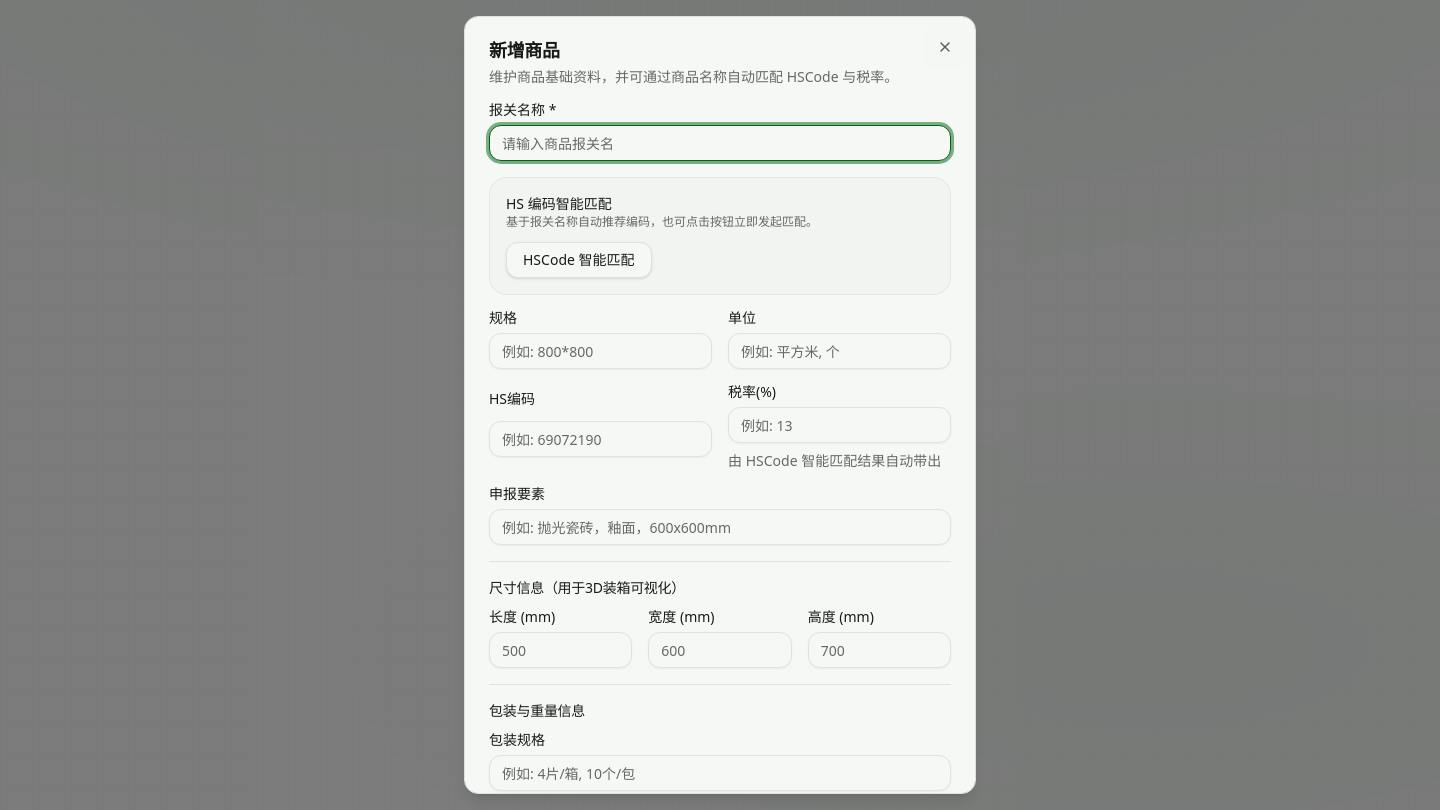
Test: ProductDialog › 商品名称匹配后可选择推荐 HSCode 并显示税率
Type "瓷砖" into the field labelled "报关名称 *" at (720, 143), box [489, 125, 951, 161]
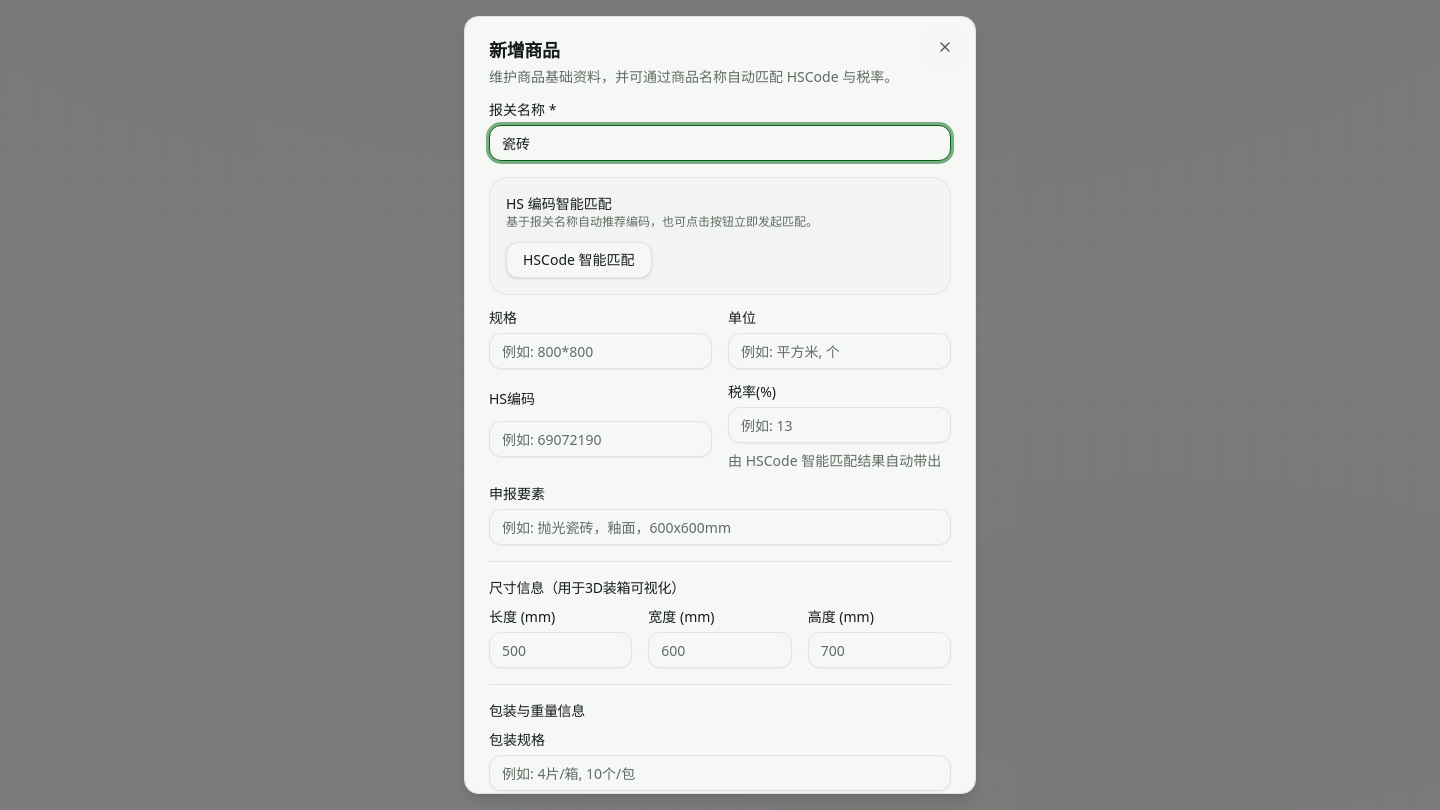
Click the button "HSCode 智能匹配" at (579, 260), box [506, 242, 652, 278]
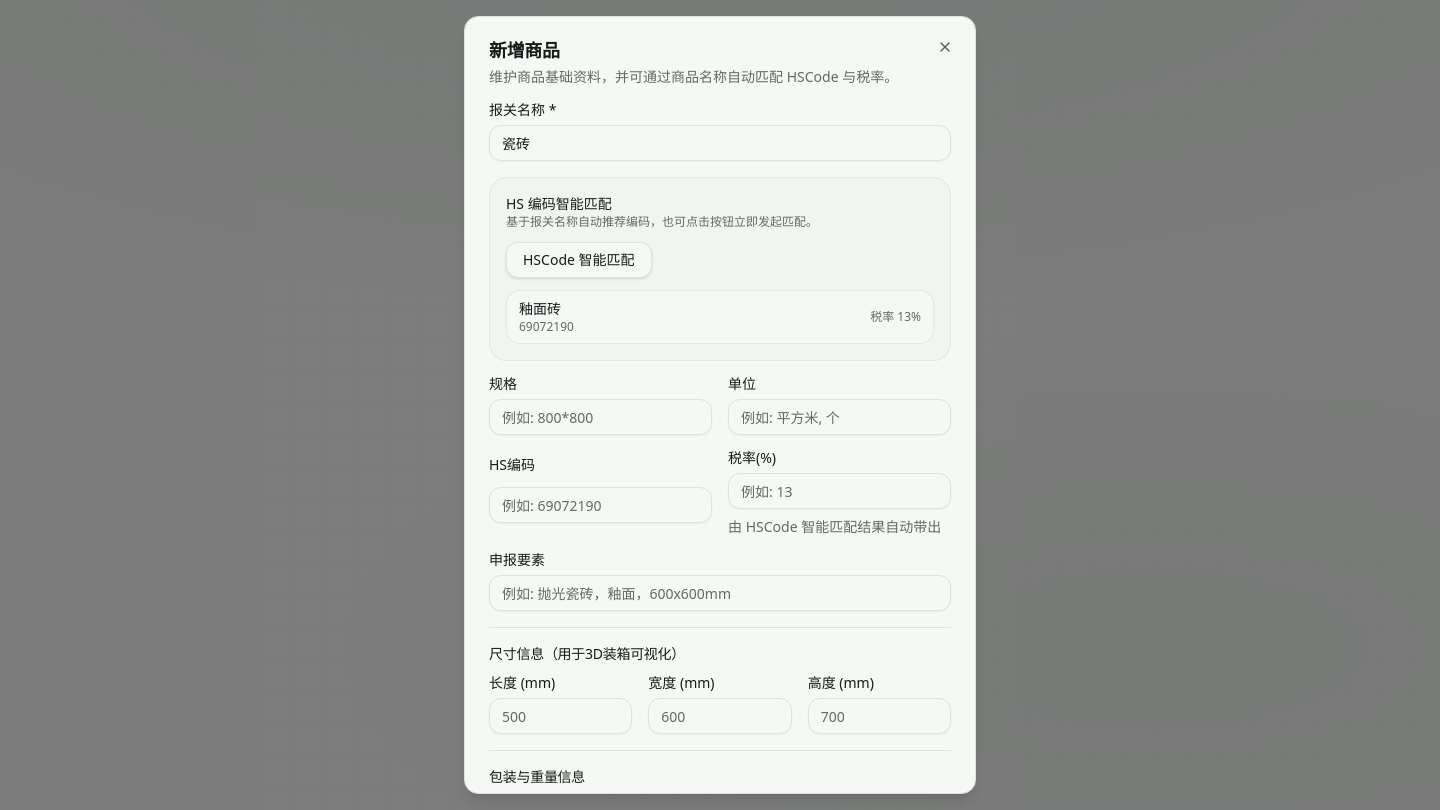
Now the text "69072190" is shown, box [519, 319, 574, 335]
Click the button "釉面砖 69072190 税率 13%" at (540, 308), box [506, 290, 934, 344]
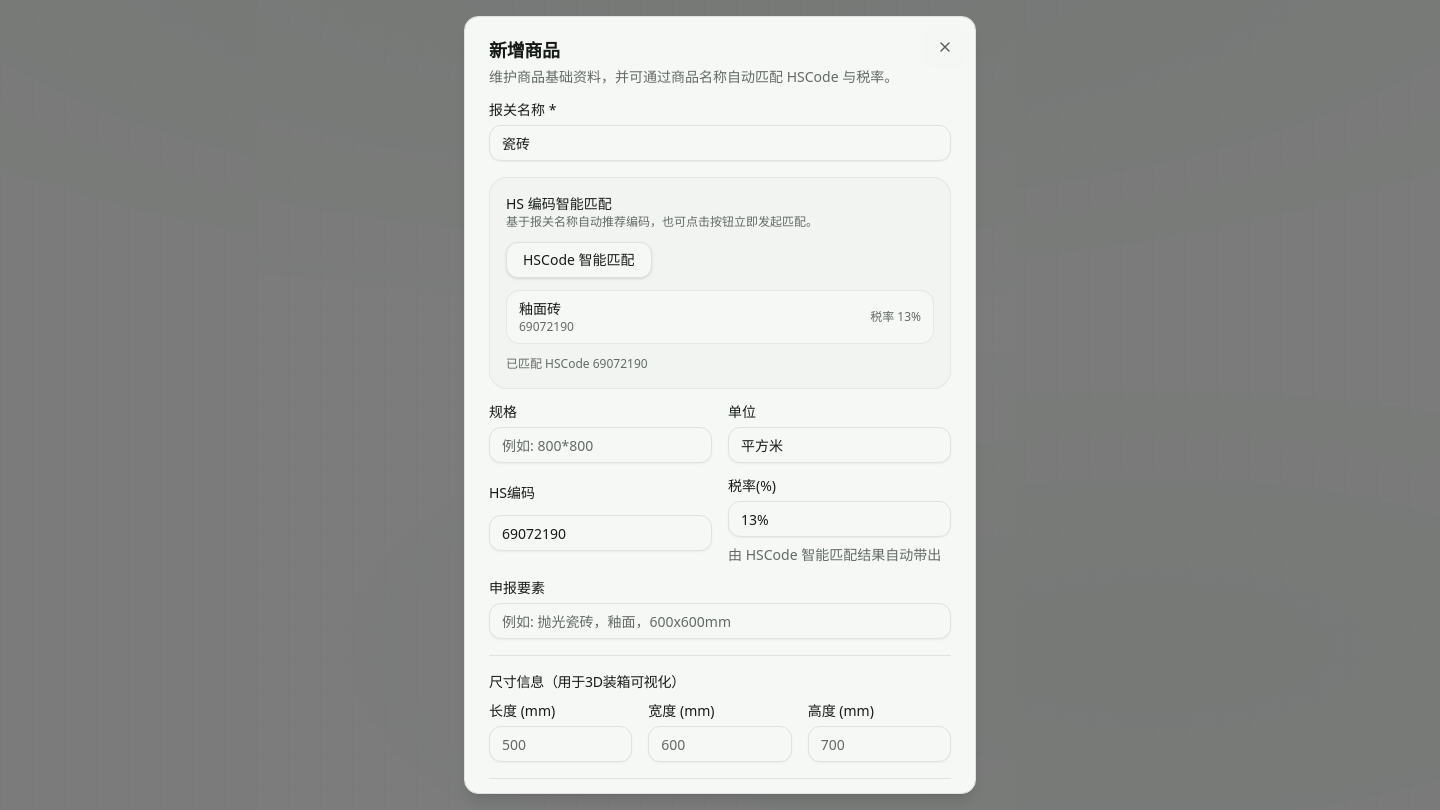
Now the field labelled "HS编码" holds "69072190", box [489, 515, 712, 551]
Now the field labelled "税率(%)" holds "13%", box [728, 501, 951, 537]
